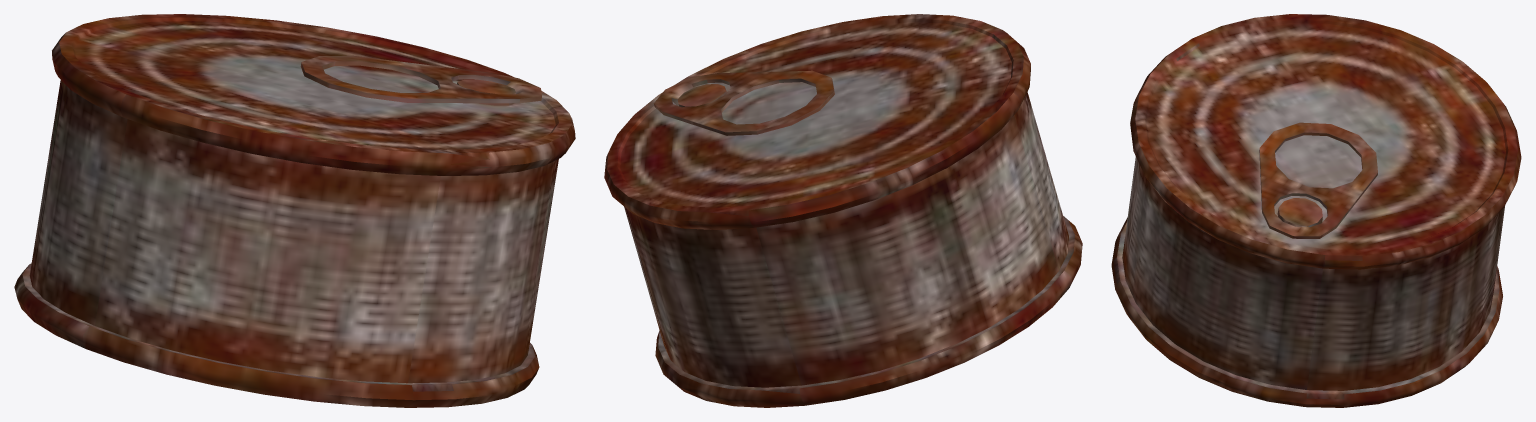
Rendered from rusty_sardine_can.glb.
3 views of the same model, side by side, from view 1: azimuth 30°, elevation 25°; view 2: azimuth 150°, elevation 25°; view 3: azimuth 270°, elevation 25° (orthographic). The views are drawn at different scales.
Parts seen in each view (by area): view 1: rusty_sardine_can; view 2: rusty_sardine_can; view 3: rusty_sardine_can.
Boxes of the visible parts, x1,y1,x2,y2 form: rusty_sardine_can: (14,14,575,407); rusty_sardine_can: (604,14,1082,407); rusty_sardine_can: (1111,14,1521,407).
Size of what is drawn, in the model's own units: 0.11 by 0.0747 by 0.1063.
Materials: 1 (1 with a texture image).
